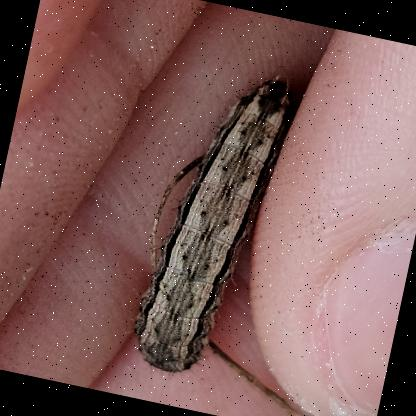Fall Armyworm Larvae: (112, 50, 312, 399)
